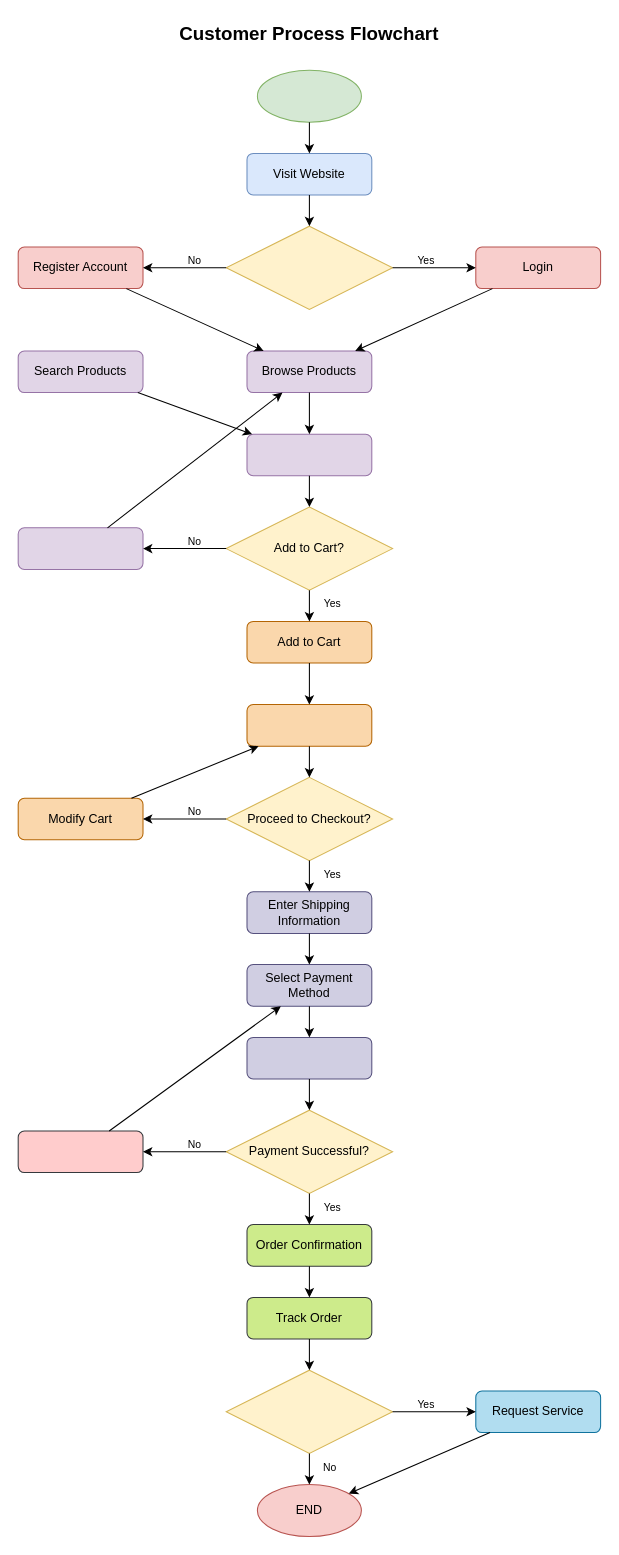
The diagram is 619 pixels wide and 1555 high, and some of its shapes have lost their labels. The centre of each missing label's shape, as x and y in pixels:
"Already Registered?" goes at (309,267).
"Continue Shopping" goes at (80,548).
"Need Service?" goes at (309,1411).
"Payment Failed" goes at (80,1151).
"Process Payment" goes at (309,1057).
"START" goes at (308,95).
"View Product Details" goes at (309,454).
"View Shopping Cart" goes at (309,725).
